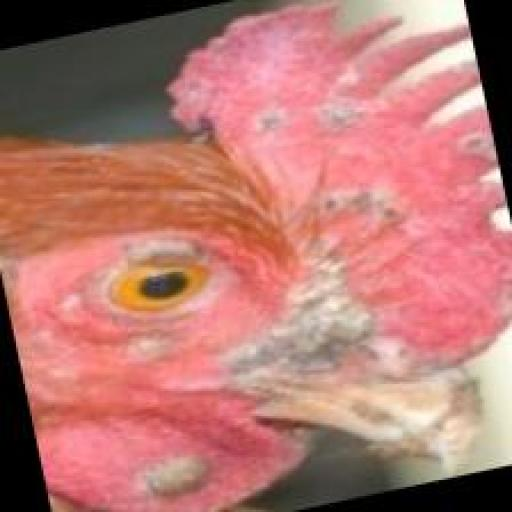disease: (55, 220, 231, 318), (215, 55, 397, 148), (128, 423, 238, 512), (301, 164, 422, 243), (359, 297, 441, 400), (432, 114, 512, 190)
